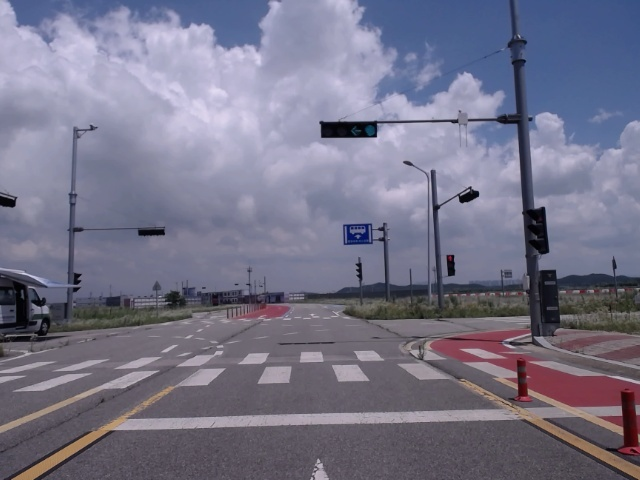all_green_4: (314, 123, 379, 140)
